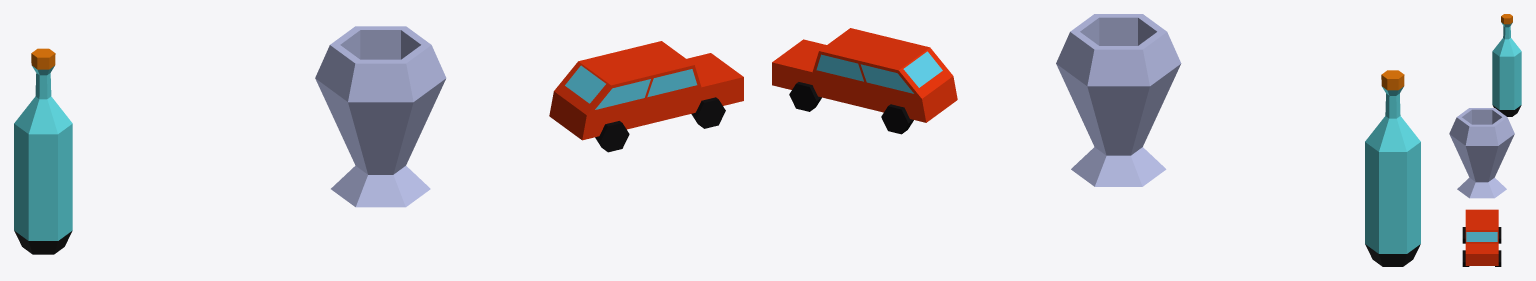
File: CarBottleVase.fbx
The picture shows the model from 3 angles, left to right: view 1: azimuth 30°, elevation 25°; view 2: azimuth 150°, elevation 25°; view 3: azimuth 270°, elevation 25°; orthographic projection. The views are drawn at different scales.
Parts seen in each view (by area): view 1: Cylinder.001, Cube.020, Cylinder.004; view 2: Cylinder.001, Cube.020, Cylinder.004; view 3: Cylinder.001, Cylinder.004, Cube.020.
Part boxes in pixels (x1,y1,x2,y2): Cylinder.001: (315, 26, 446, 207); Cube.020: (549, 41, 743, 152); Cylinder.004: (14, 48, 72, 254); Cylinder.001: (1056, 14, 1181, 186); Cube.020: (772, 28, 957, 134); Cylinder.004: (1365, 70, 1420, 266); Cylinder.001: (1449, 108, 1514, 198); Cylinder.004: (1492, 14, 1521, 116); Cube.020: (1462, 209, 1501, 266).
Bounding box in the file's own units: 133 × 36.16 × 24.55.
